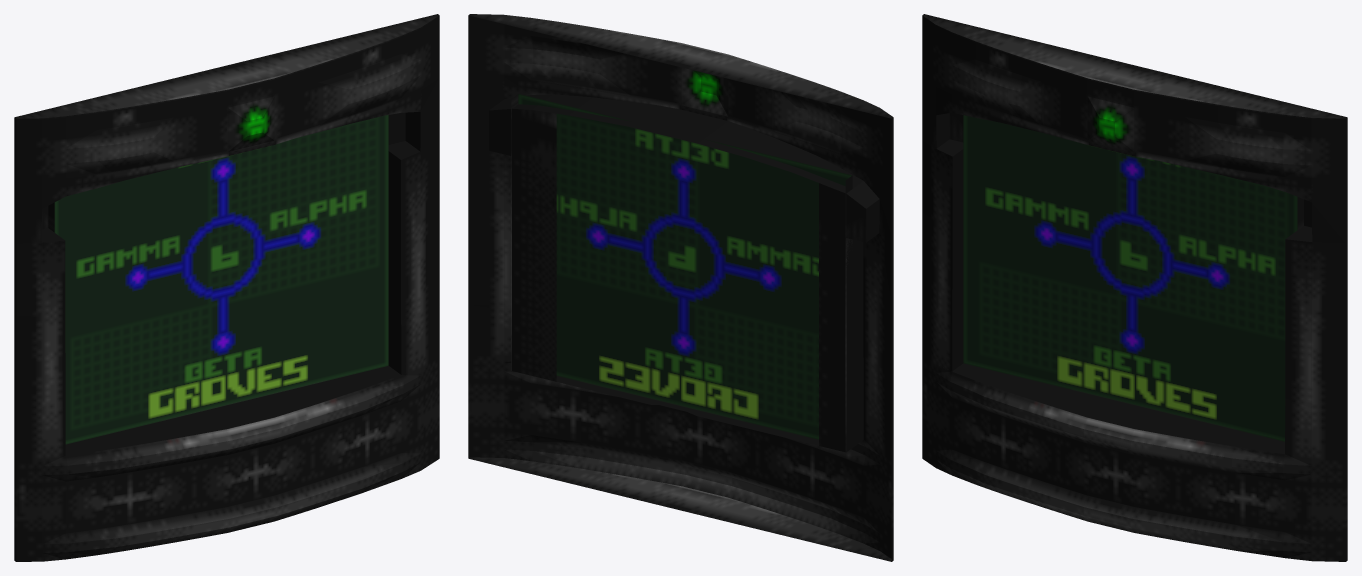
The model's file is exec6_1.fbx.
The picture shows the model from 3 angles, left to right: view 1: azimuth 30°, elevation 25°; view 2: azimuth 150°, elevation 25°; view 3: azimuth 330°, elevation 25°; orthographic projection.
Parts seen in each view (by area): view 1: bridg2_6_mesh, exec6_1; view 2: bridg2_6_mesh, exec6_1; view 3: bridg2_6_mesh, exec6_1.
Boxes of the visible parts, x1,y1,x2,y2 form: bridg2_6_mesh: (14,14,439,561); exec6_1: (48,115,388,444); bridg2_6_mesh: (468,14,893,561); exec6_1: (511,94,852,452); bridg2_6_mesh: (922,14,1347,561); exec6_1: (963,115,1303,441).
Size of the model in its own units: 256 by 256 by 36.85.
